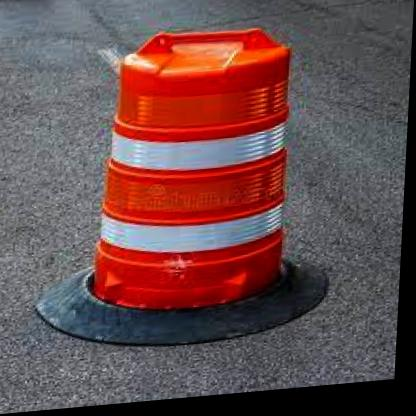obstacle: (81, 27, 301, 327)
